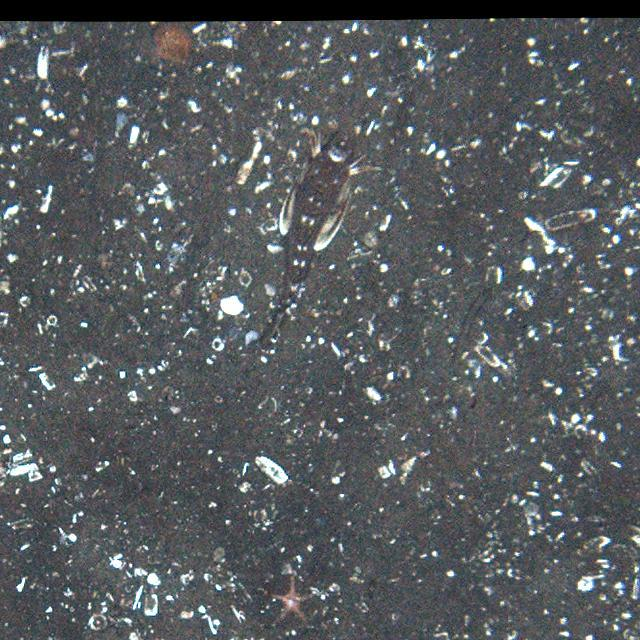roundfish: (276, 121, 358, 338)
